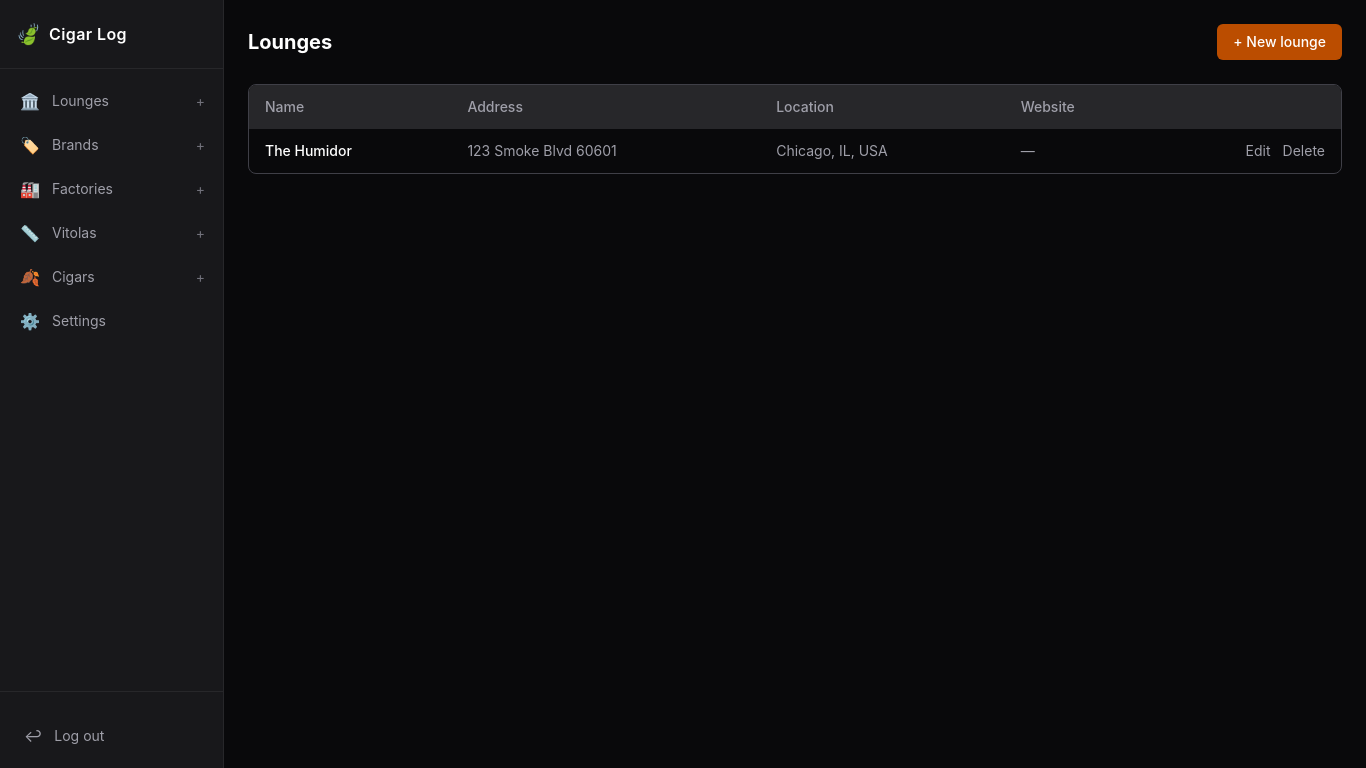
Test: LoungesPage › shows validation error when name is empty on submit
Click the button "+ New lounge" at (1280, 42), box top-left (1217, 24), bottom-right (1342, 60)
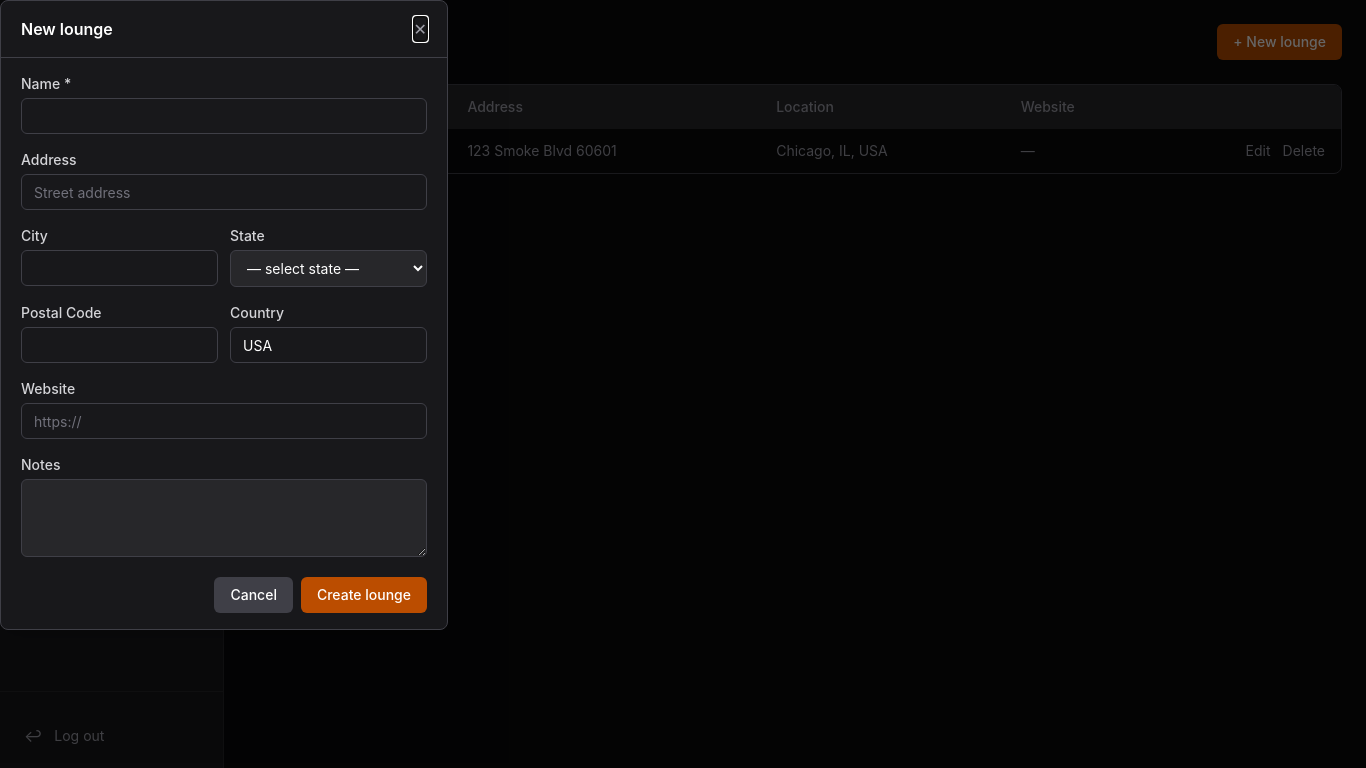
Click the button "Create lounge" at (364, 595), box top-left (301, 577), bottom-right (427, 613)
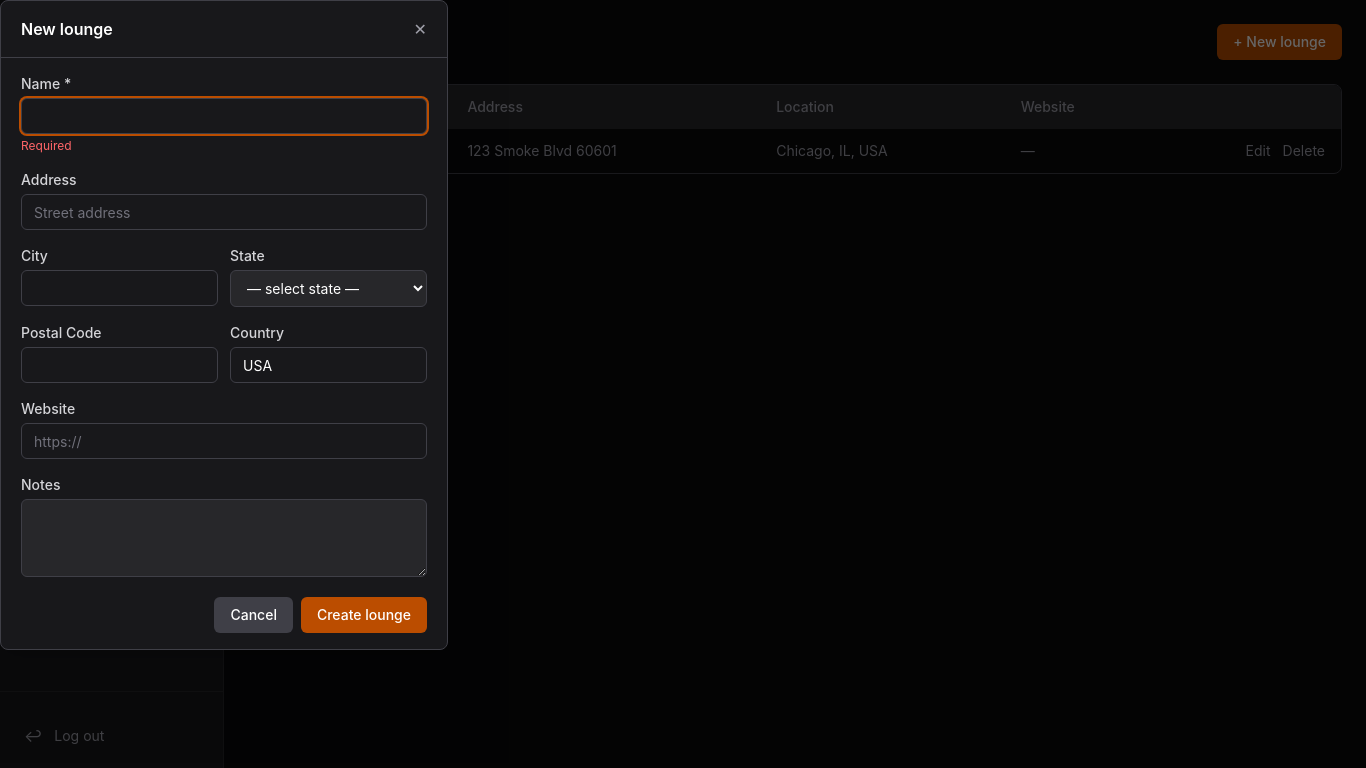
Check: the text "Required" is shown, box top-left (21, 138), bottom-right (72, 153)
